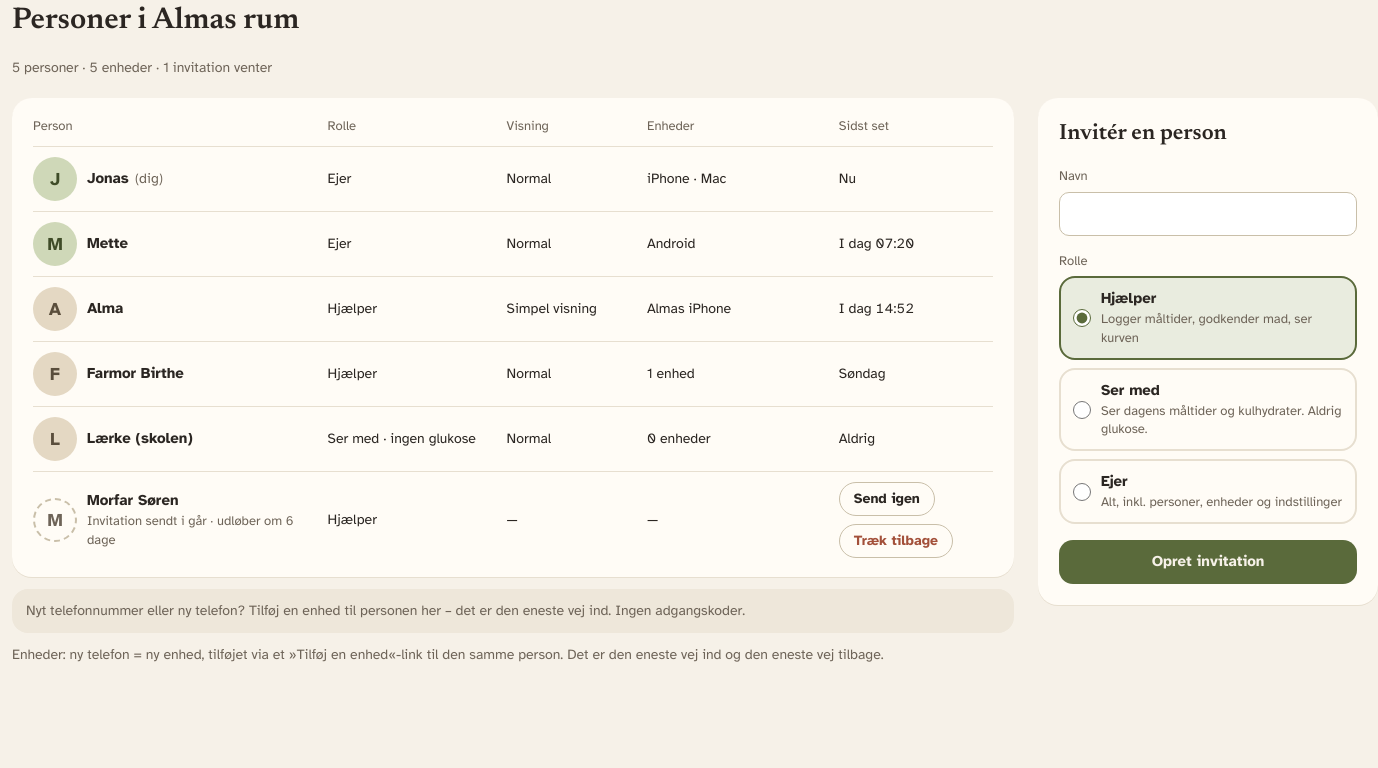
it: PeopleScreen · inviting (Personer-Desktop panel, phone sheet) › shows the API's reason when inviting fails, translated by code
The image size is (1378, 768).
Type "Someone" into the field labelled "Navn" at (1208, 214), box [1059,192,1357,236]
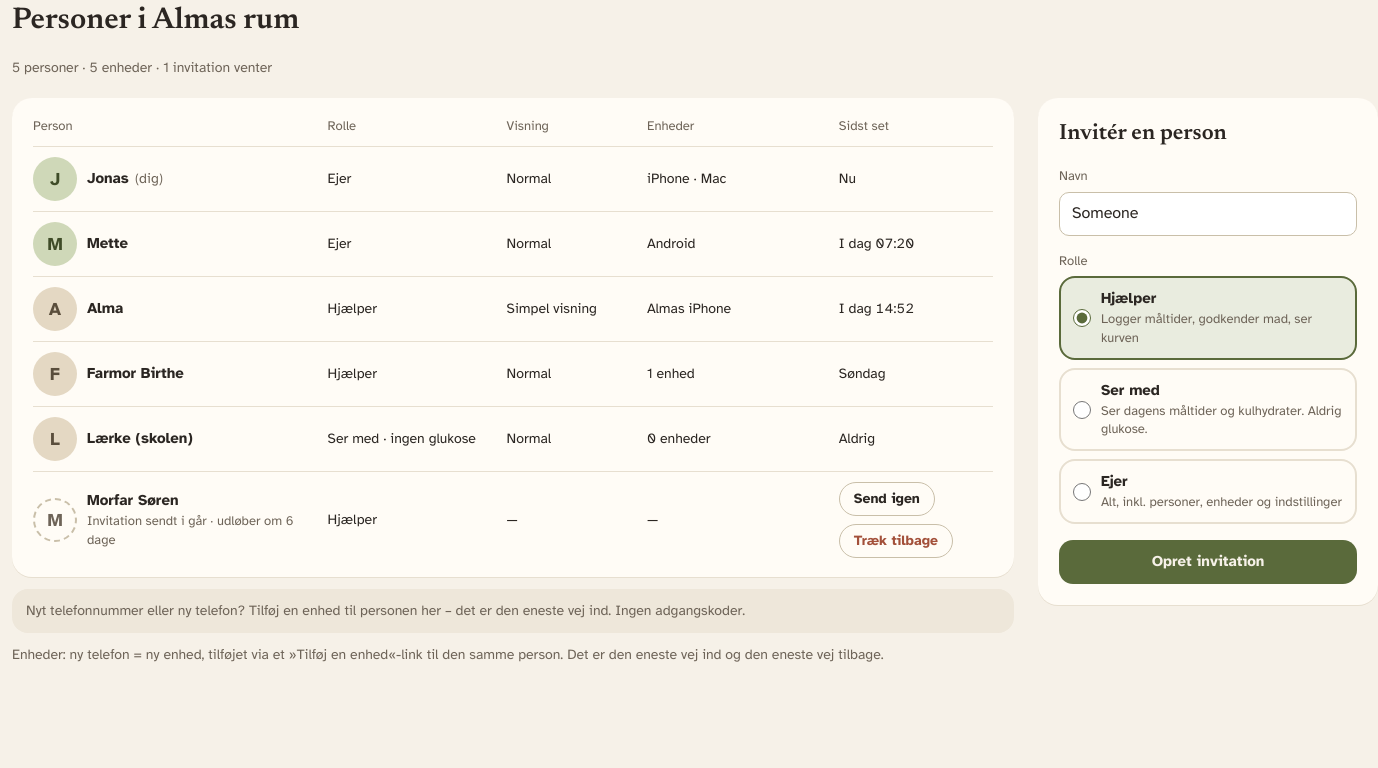
Submit the form with test id "invite-form", box [1059,167,1357,584]
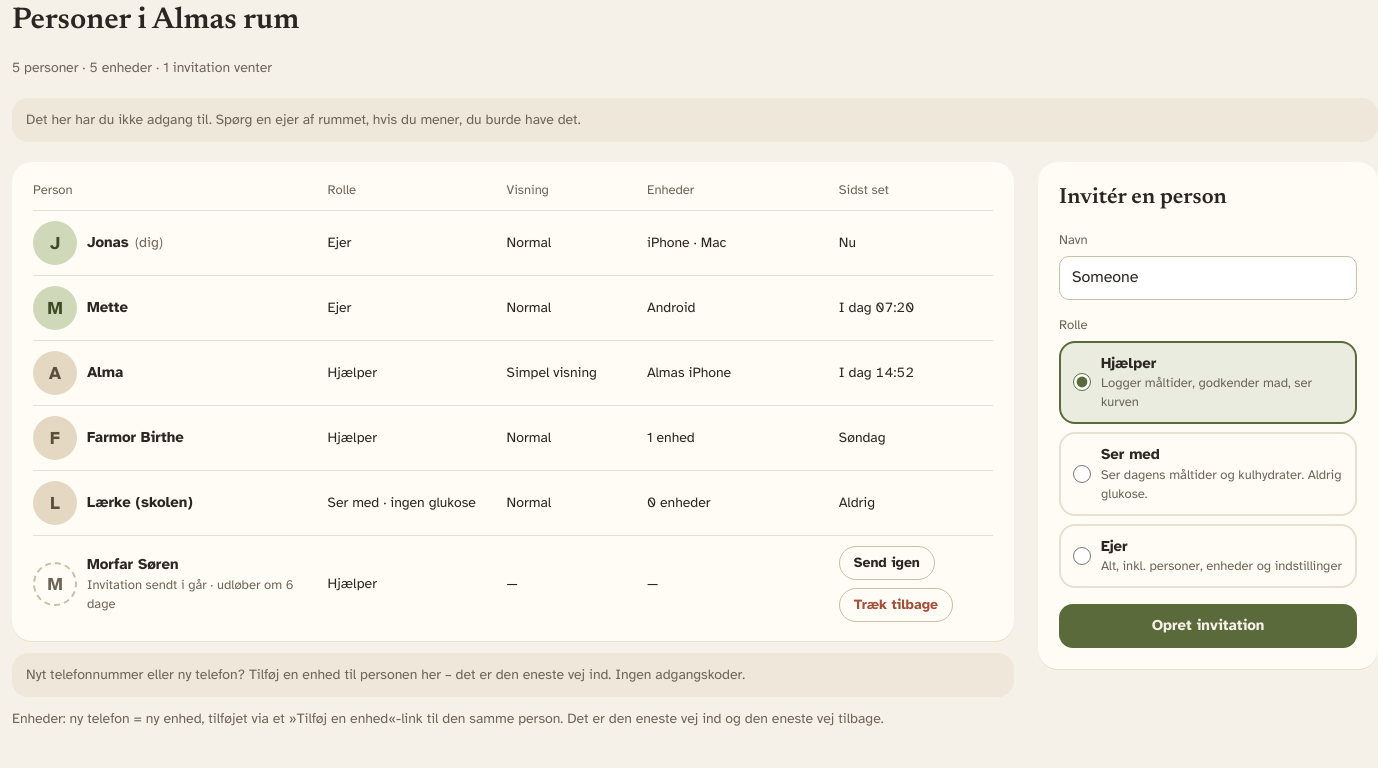
expect the message shows "Det her har du ikke adgang til.": met, box [26,111,580,128]
